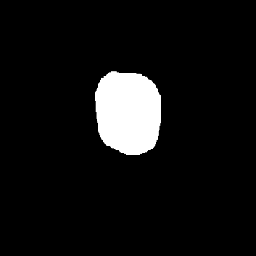mass: (96, 56, 159, 121)
